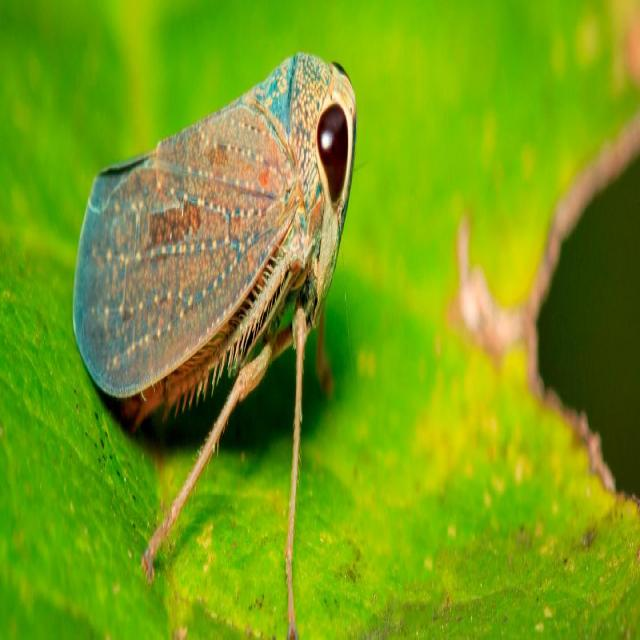Yechan: (70, 39, 361, 469)
